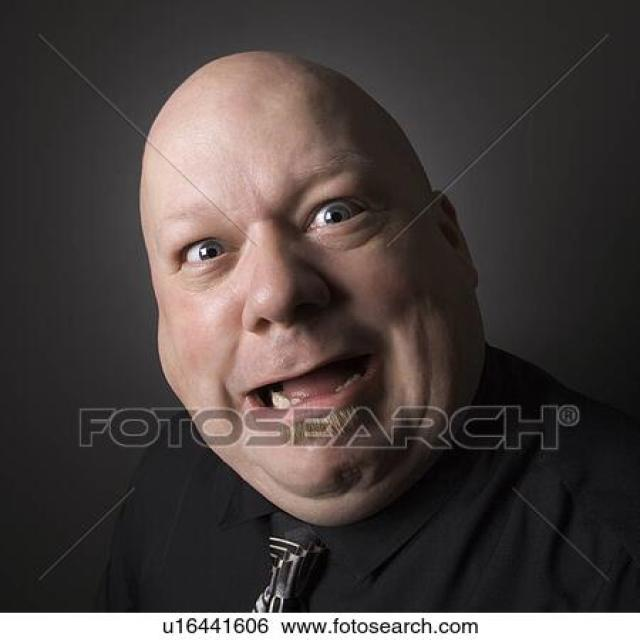no_helmet: (89, 37, 457, 236)
